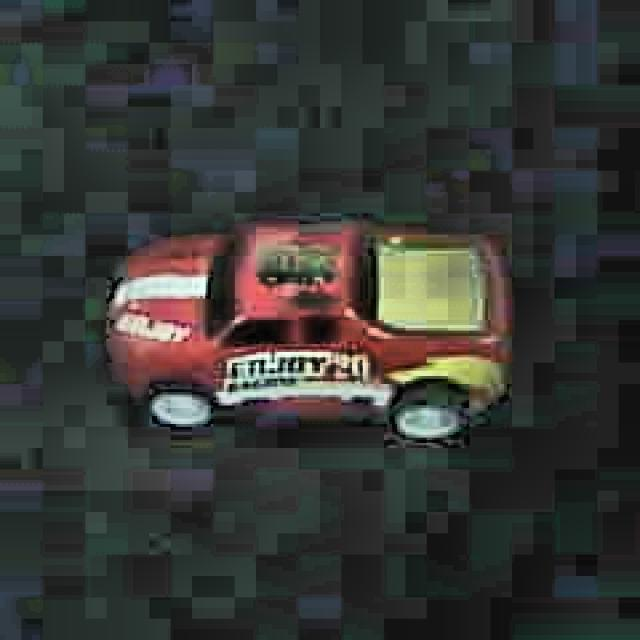car: (101, 206, 517, 454)
